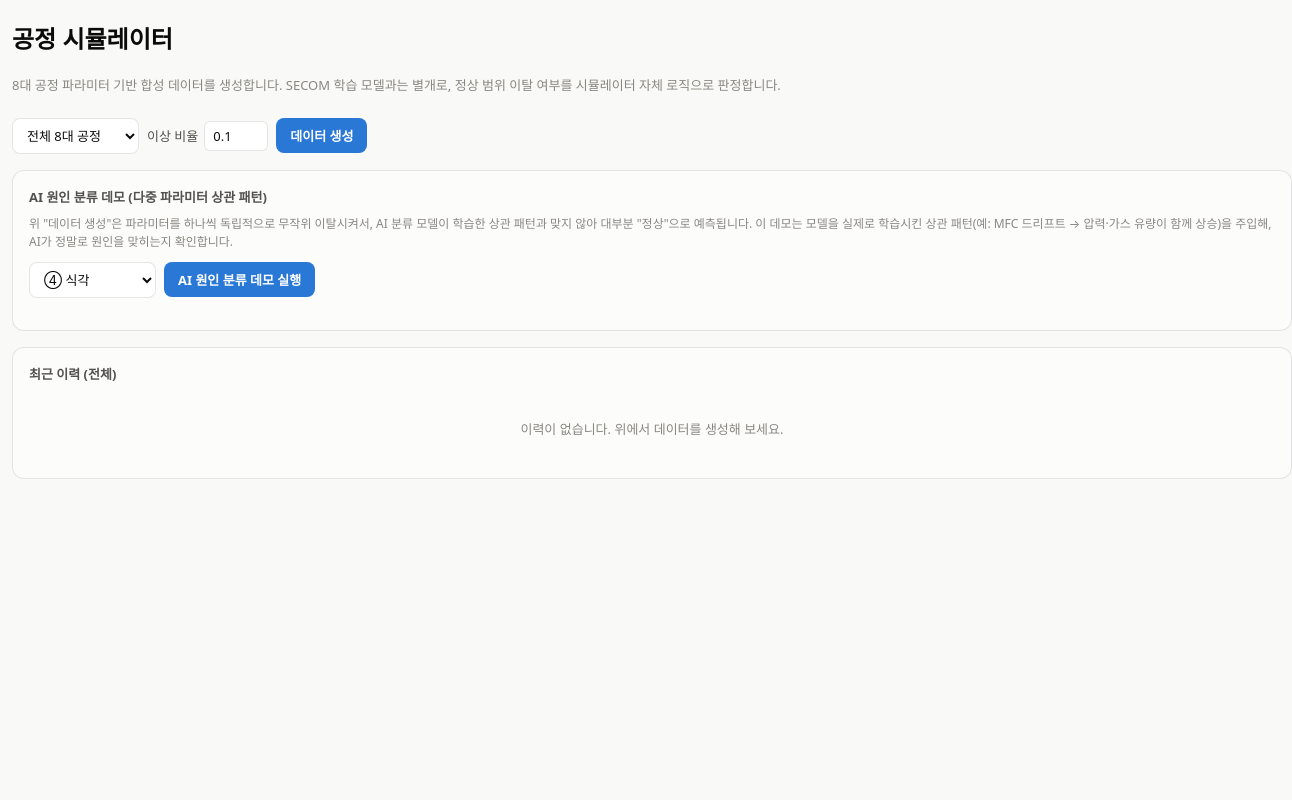
Test: Simulator page › runs the AI fault-classification demo and shows injected vs predicted labels
Click the button "AI 원인 분류 데모 실행" at (240, 280), box [164,262,315,297]
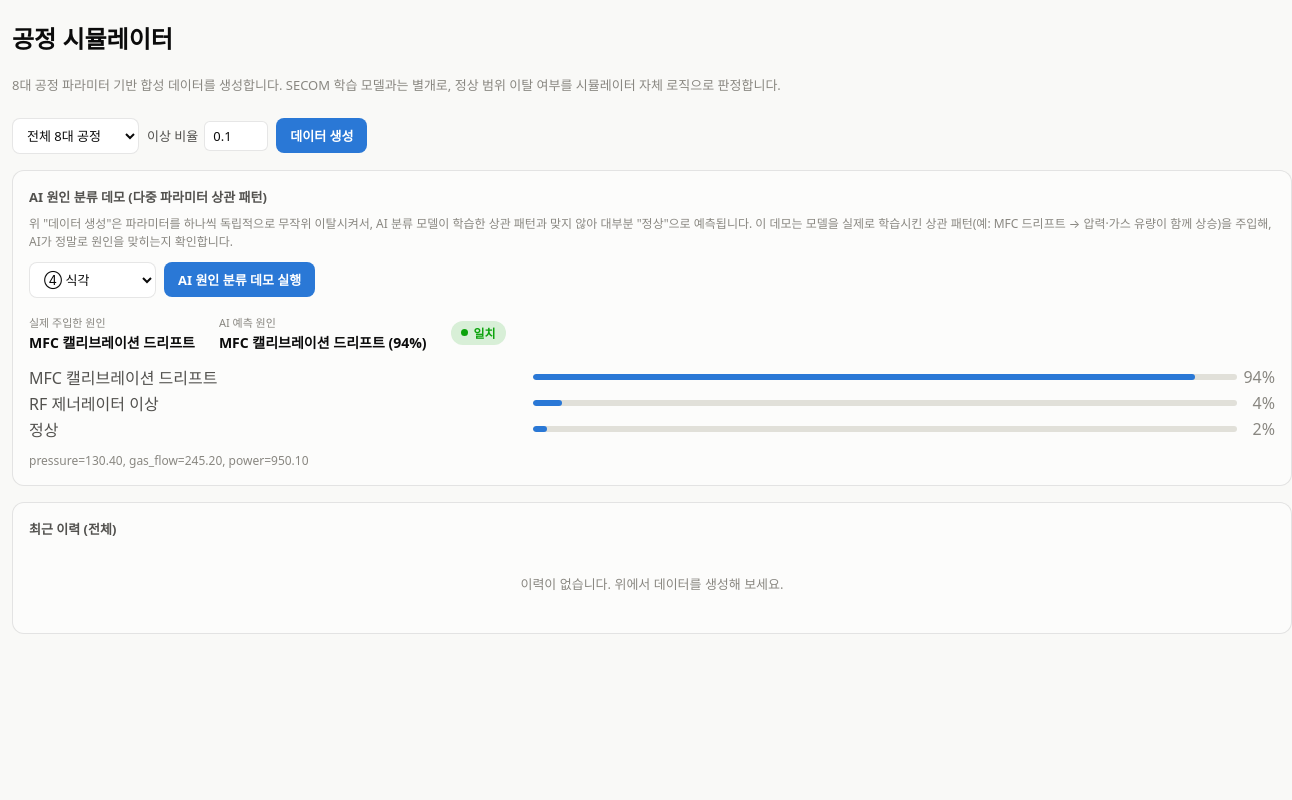
Check: the text "MFC 캘리브레이션 드리프트" below "실제 주입한 원인" is shown, box [29,333,195,352]
Check: the text "일치" is shown, box [451,321,506,345]
Check: the text "RF 제너레이터 이상" is shown, box [29,393,159,415]
